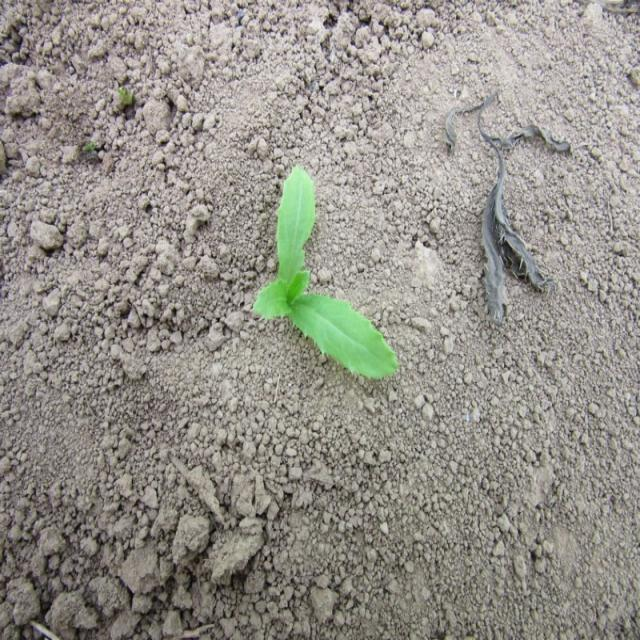field_thistle: (226, 165, 434, 422)
